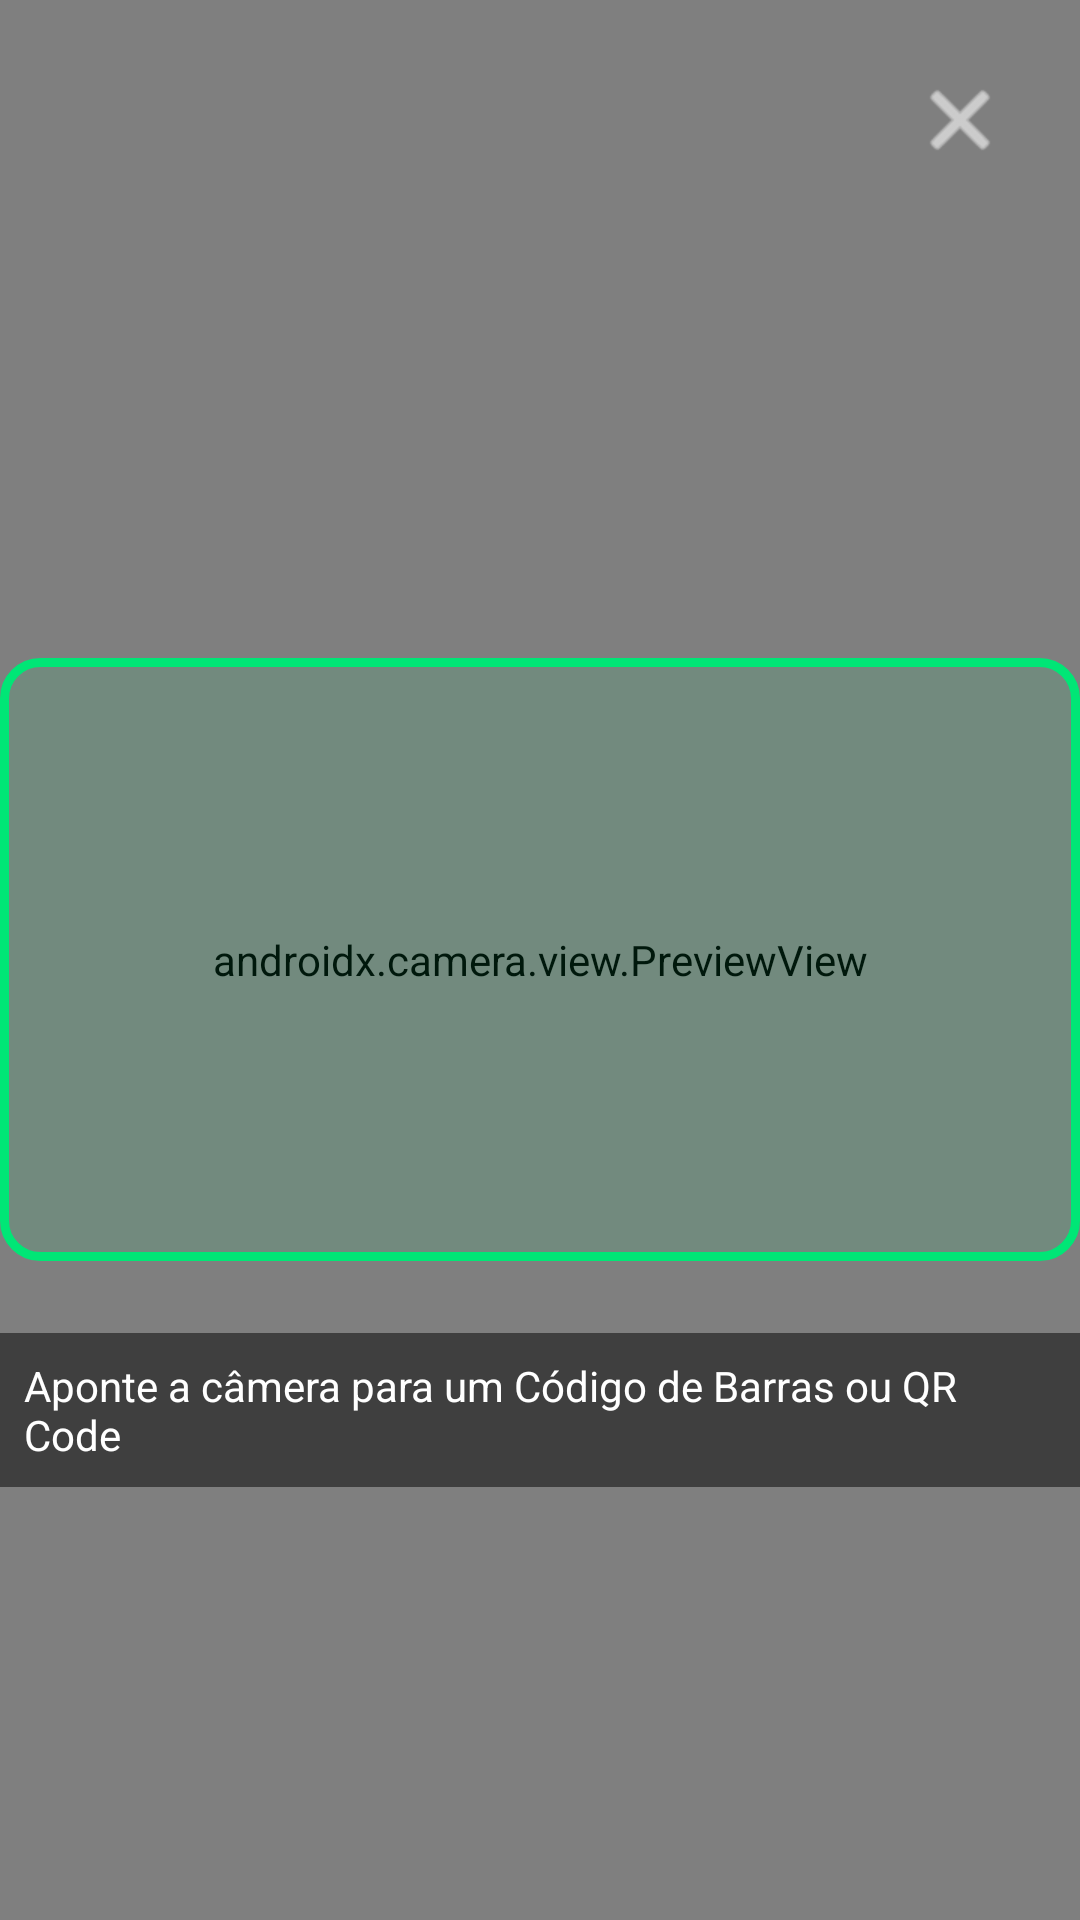

Locate icon controls on the screen. Image size 1080w x 1920h, boxes as {"x1": x1, "y1": y1, "x2": x2, "y2": y2}.
Fechar: {"x1": 930, "y1": 90, "x2": 990, "y2": 150}
